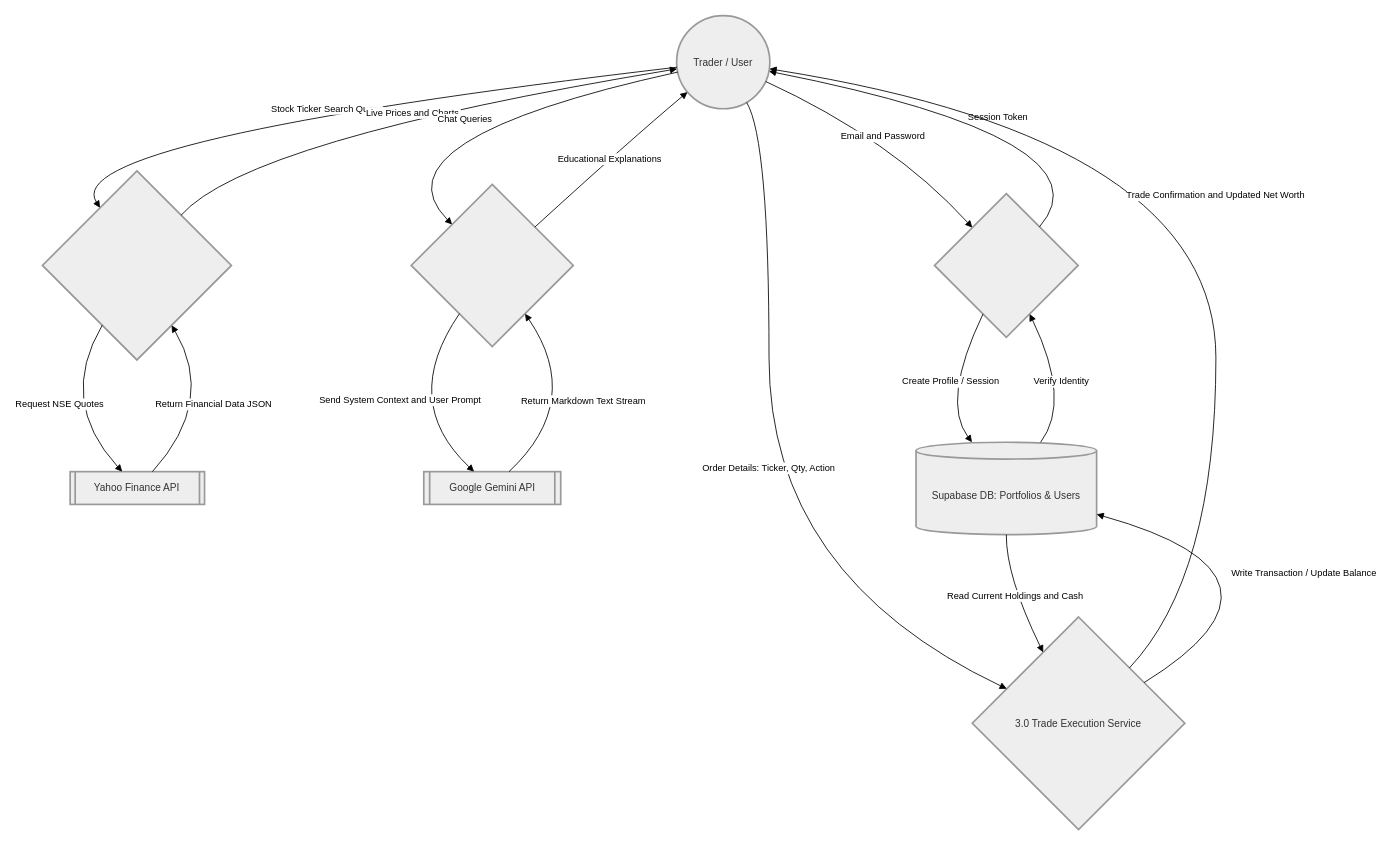
Image size: 1391x844. Some labels were removed from this diagram. The shapes that lost their labels are listed below. From the top down, each one's box as (x1, y1, x2, y2) in pixels, then its label:
(41, 170, 232, 360): 2.0 Market Data Service
(410, 183, 574, 347): 4.0 AI Tutor Service
(933, 192, 1079, 338): 1.0 Auth Process
